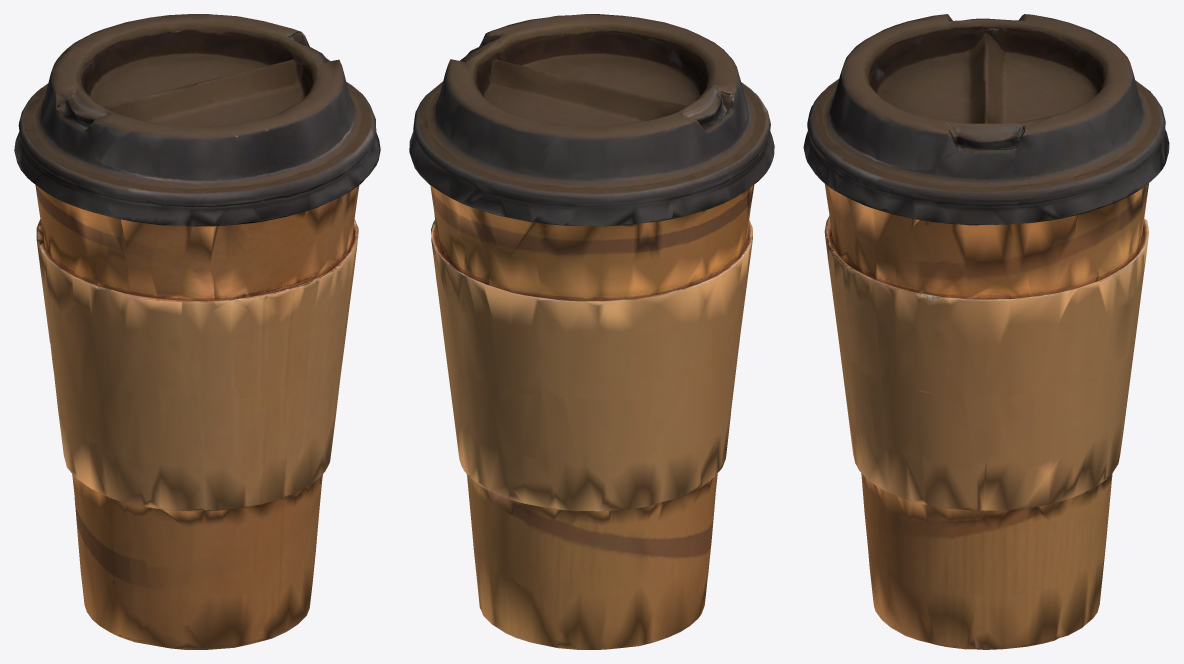
The model's file is paper-cup.glb.
3 views of the same model, side by side, from view 1: azimuth 30°, elevation 25°; view 2: azimuth 150°, elevation 25°; view 3: azimuth 270°, elevation 25° (orthographic).
Bounding box in the file's own units: 1.25 × 2 × 1.25.
1 material, 1 textured.
